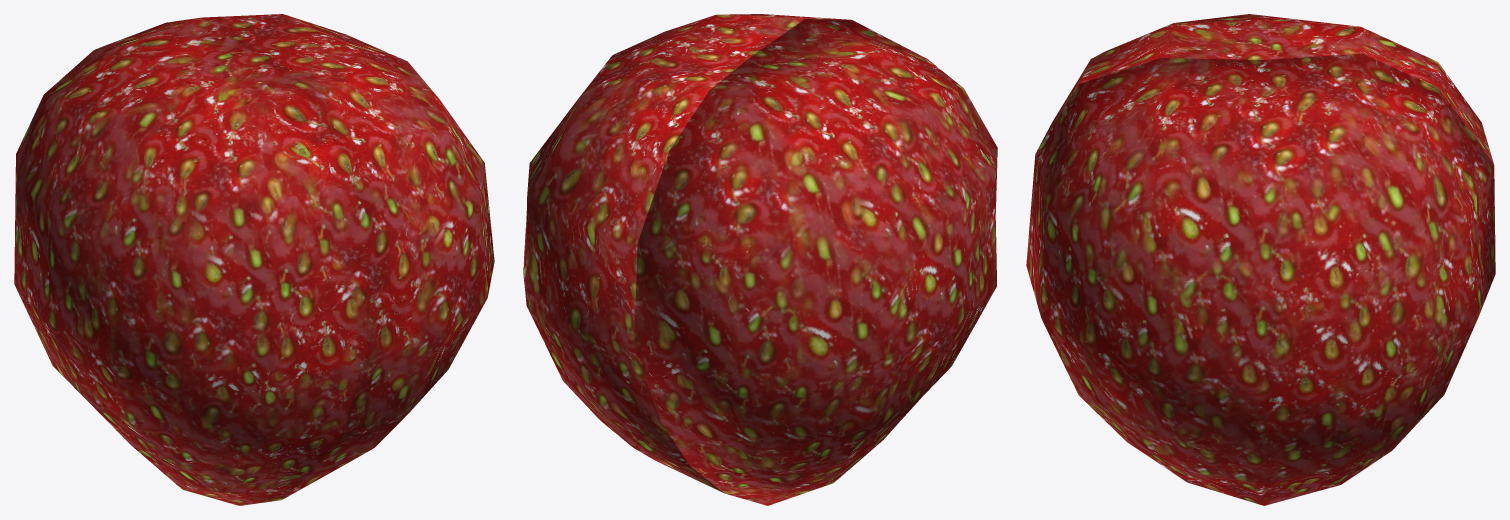
The model's file is Strawberry.fbx.
3 views of the same model, side by side, from view 1: azimuth 30°, elevation 25°; view 2: azimuth 150°, elevation 25°; view 3: azimuth 270°, elevation 25° (orthographic).
Visible parts, largest first — view 1: Strawberry_part, Strawberry_part2; view 2: Strawberry_part, Strawberry_part2; view 3: Strawberry_part2, Strawberry_part.
Boxes of the visible parts, x1=… form: Strawberry_part: x1=14, y1=17, x2=367, y2=505; Strawberry_part2: x1=202, y1=14, x2=494, y2=499; Strawberry_part: x1=634, y1=19, x2=997, y2=505; Strawberry_part2: x1=523, y1=14, x2=850, y2=492; Strawberry_part2: x1=1026, y1=53, x2=1495, y2=505; Strawberry_part: x1=1036, y1=14, x2=1493, y2=164.
Bounding box in the file's own units: 10.6 × 11.17 × 10.47.
